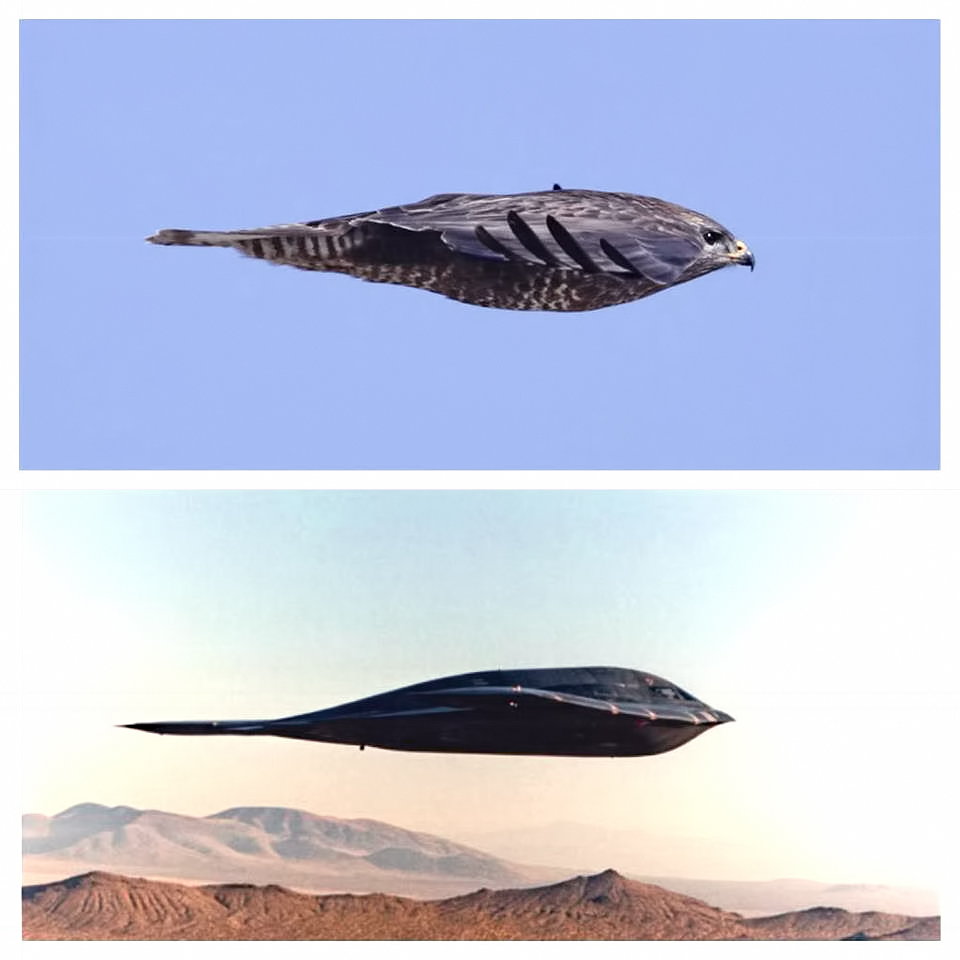B2: (112, 666, 737, 759)
